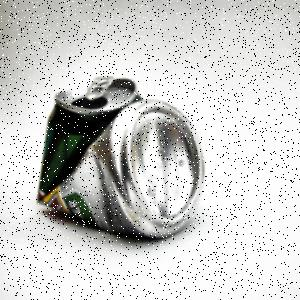Can: (37, 74, 206, 241)
